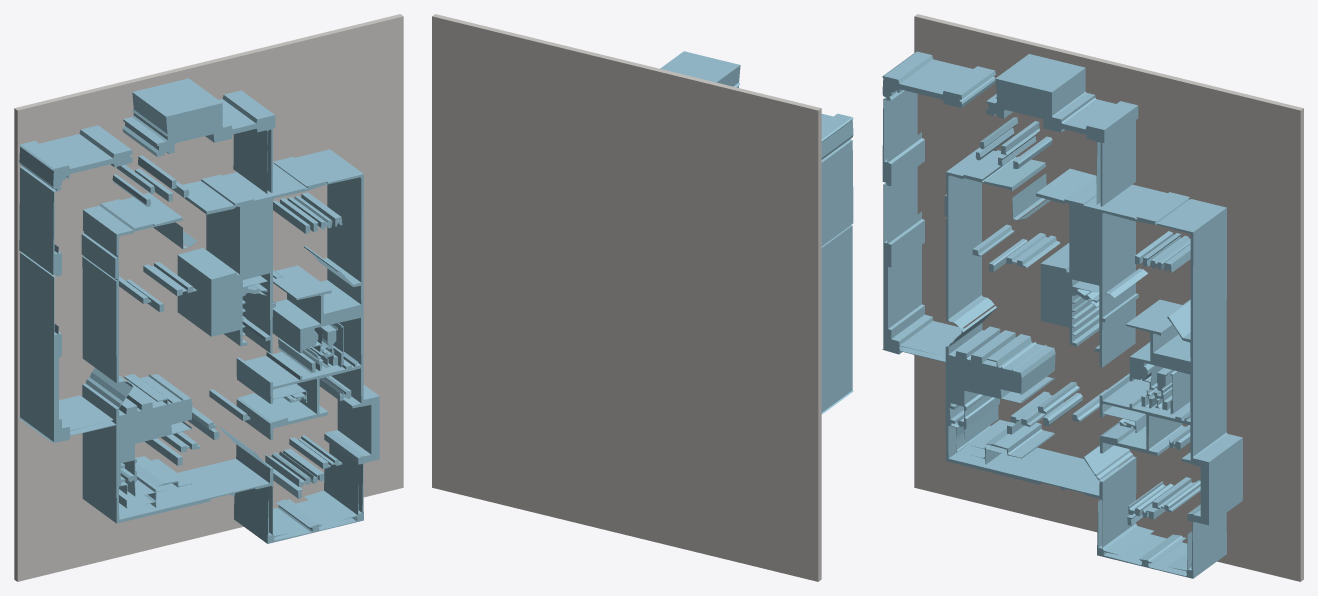
3 renders of one model, left to right at view 1: azimuth 30°, elevation 25°; view 2: azimuth 150°, elevation 25°; view 3: azimuth 330°, elevation 25°, orthographic.
Visible parts, largest first — view 1: world; view 2: world; view 3: world.
Part boxes in pixels (box(x1,y1,x2,y2)): world: box(14, 14, 403, 581); world: box(432, 14, 853, 581); world: box(882, 14, 1303, 581).
Bounding box in the file's own units: 10.23 × 11.93 × 1.7.
